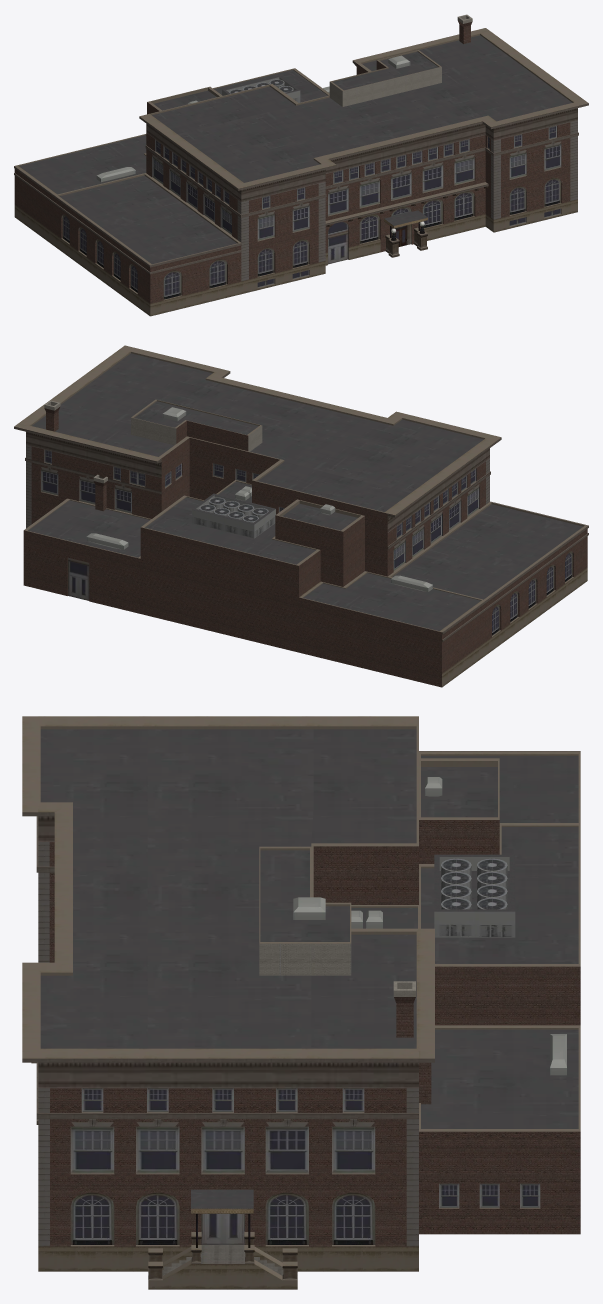
File: washst.glb
The picture shows the model from 3 angles, top to bottom: view 1: azimuth 30°, elevation 25°; view 2: azimuth 150°, elevation 25°; view 3: azimuth 270°, elevation 25°; orthographic projection. The views are drawn at different scales.
Visible parts, largest first — view 1: Object_2; view 2: Object_2; view 3: Object_2.
Part boxes in pixels (x1,y1,x2,y2): Object_2: (14,14,588,316); Object_2: (14,345,588,687); Object_2: (22,716,580,1289).
Size of the model in its own units: 6385 by 1807 by 3450.
1 material, 1 textured.
